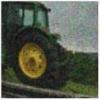tractors: (2, 2, 71, 92)
